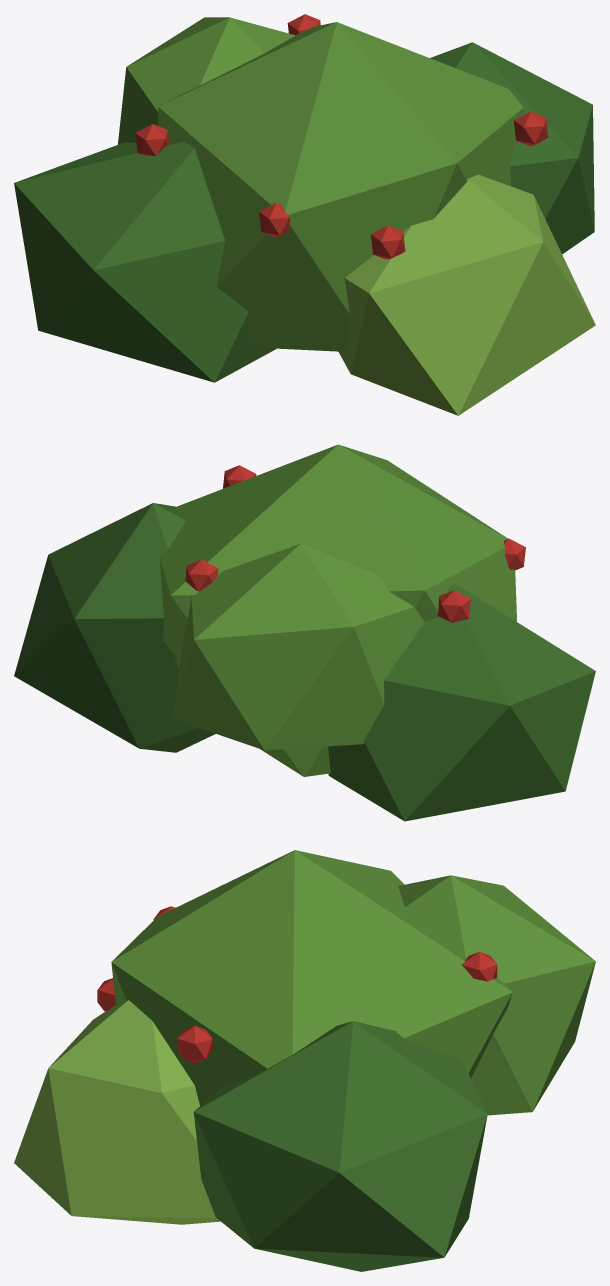
File: town_bush.glb
3 views of the same model, one above another, from view 1: azimuth 30°, elevation 25°; view 2: azimuth 150°, elevation 25°; view 3: azimuth 270°, elevation 25° (orthographic). The views are drawn at different scales.
Visible parts, largest first — view 1: town_bush; view 2: town_bush; view 3: town_bush.
Boxes of the visible parts, x1,y1,x2,y2 form: town_bush: (14,14,595,415); town_bush: (14,444,595,821); town_bush: (14,850,595,1271).
Size of the model in its own units: 1.61 by 0.9242 by 1.39.
